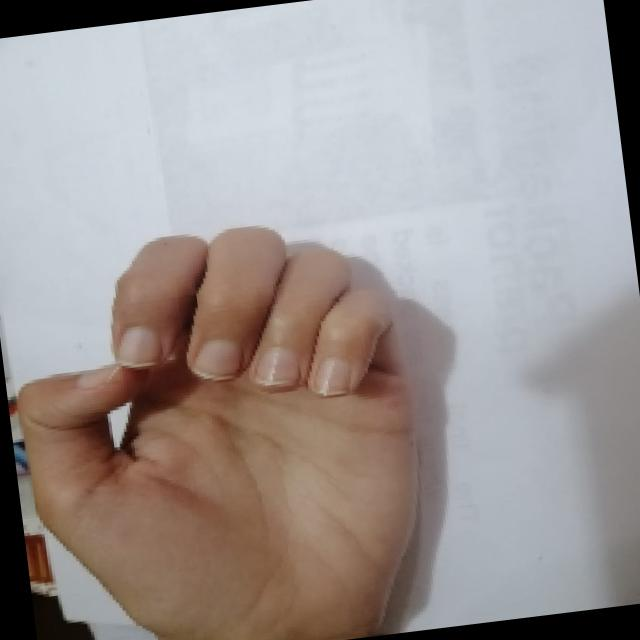Nail: (190, 337, 241, 380), (251, 345, 299, 387), (116, 325, 160, 367), (312, 356, 350, 396), (77, 365, 118, 387)
